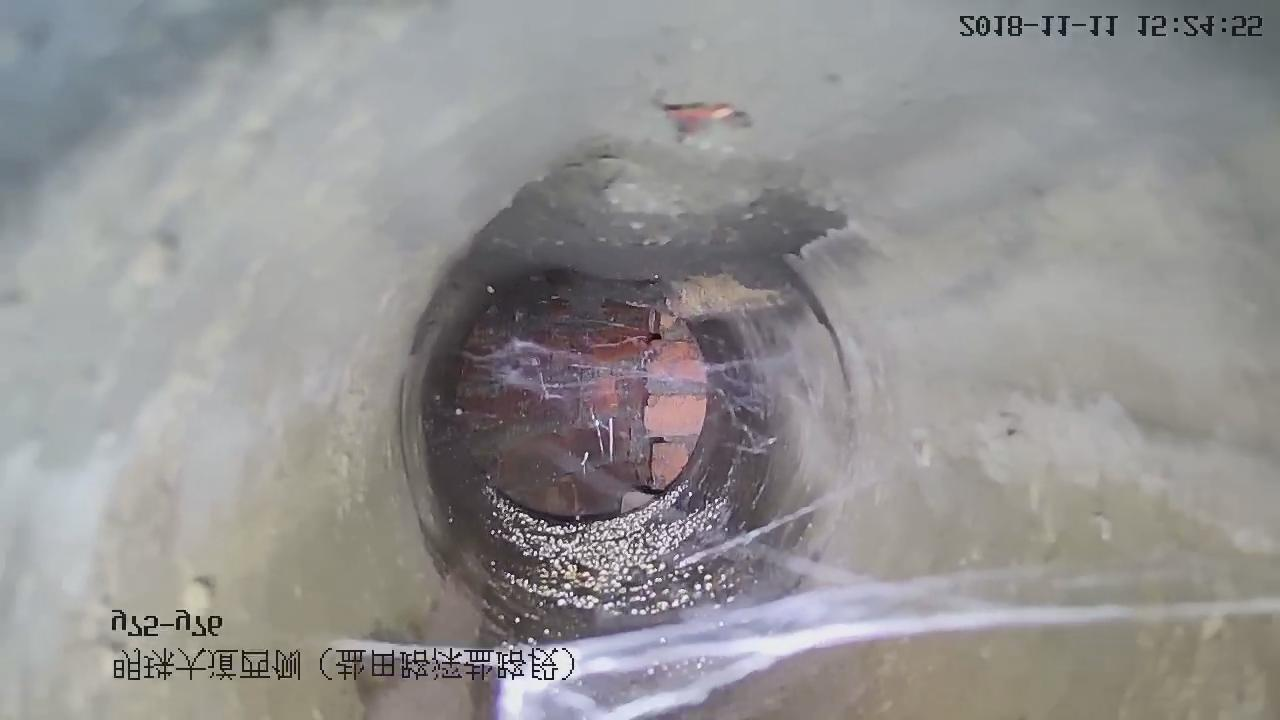CQBG: (451, 294, 707, 518)
